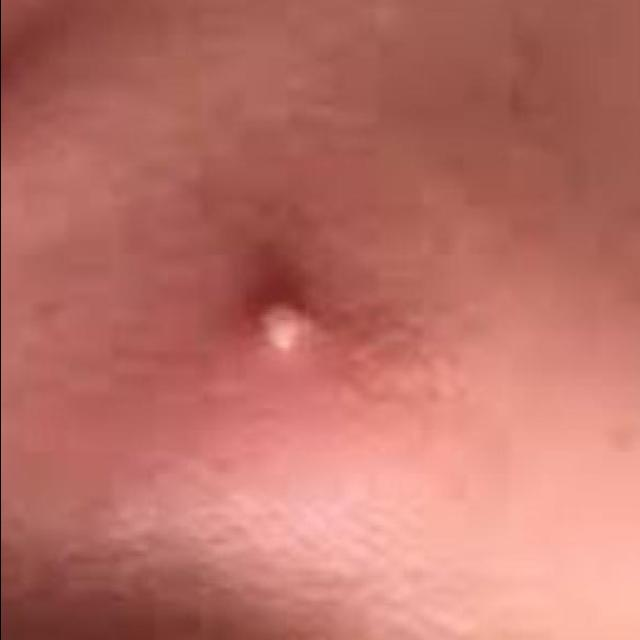pustule: (218, 280, 345, 381)
